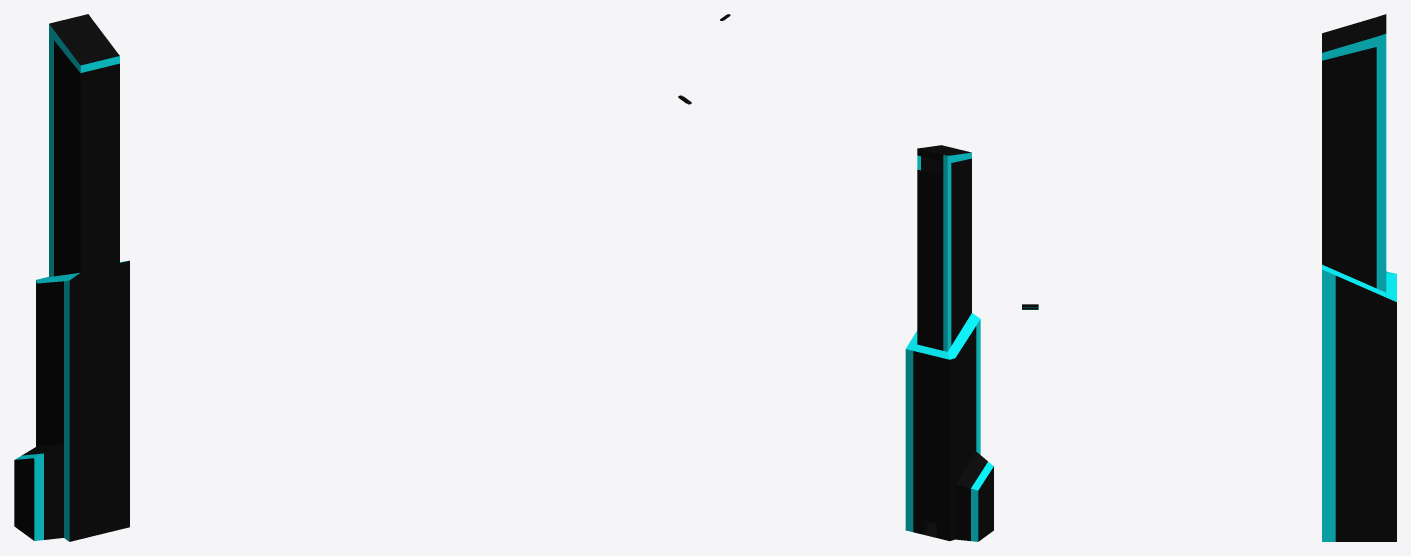
The model's file is TronBuildingFixed.fbx.
The picture shows the model from 3 angles, left to right: view 1: azimuth 30°, elevation 25°; view 2: azimuth 150°, elevation 25°; view 3: azimuth 270°, elevation 25°; orthographic projection. The views are drawn at different scales.
Parts seen in each view (by area): view 1: Cube.144; view 2: Cube.144; view 3: Cube.144.
Boxes of the visible parts, left/top/right/bottom form: Cube.144: left=14, top=14, right=129, bottom=541; Cube.144: left=905, top=145, right=993, bottom=541; Cube.144: left=1322, top=14, right=1396, bottom=541.
Bounding box in the file's own units: 9587 × 8998 × 6072.
